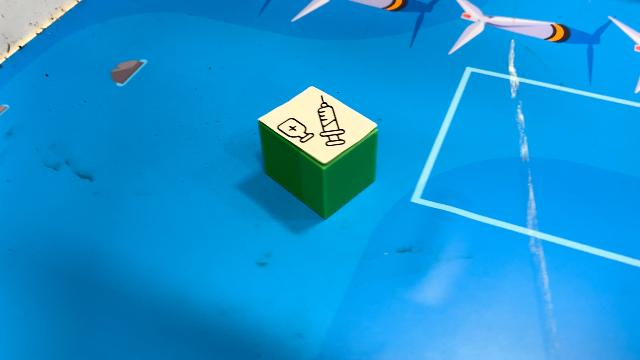syringe: (257, 85, 379, 219)
